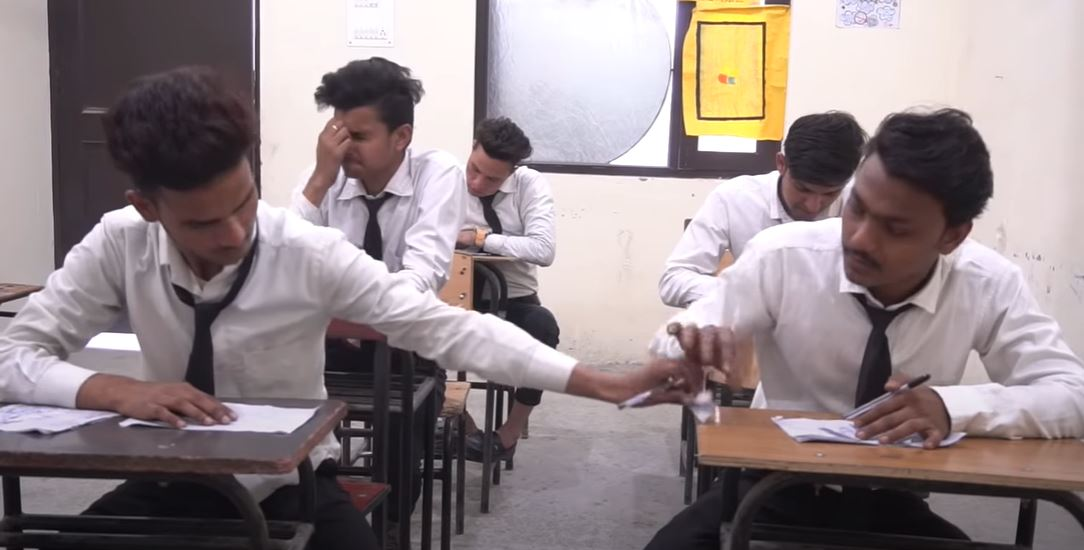chit: (569, 330, 764, 428)
student: (94, 119, 377, 404), (777, 160, 1055, 441), (299, 68, 479, 263), (751, 115, 864, 250), (452, 127, 564, 254)
